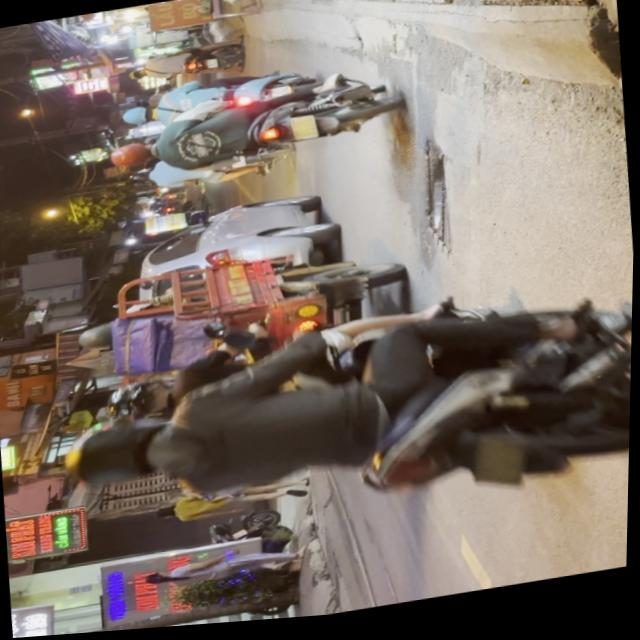helmet: (64, 416, 174, 496), (109, 143, 155, 173), (120, 106, 153, 129)
licenseplate: (53, 276, 635, 568), (102, 72, 401, 188)
nohelmet: (472, 441, 524, 499), (291, 118, 320, 145)
